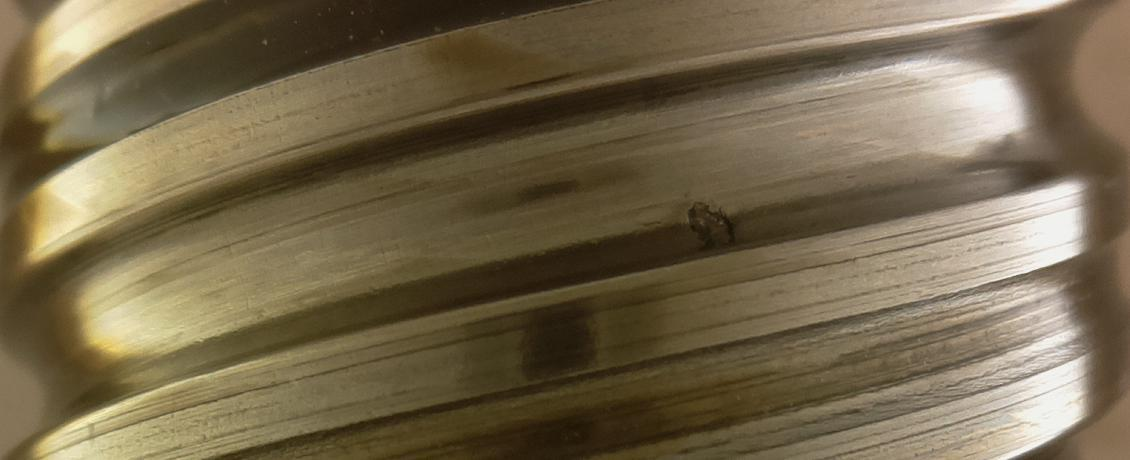pitting: (686, 200, 736, 251)
